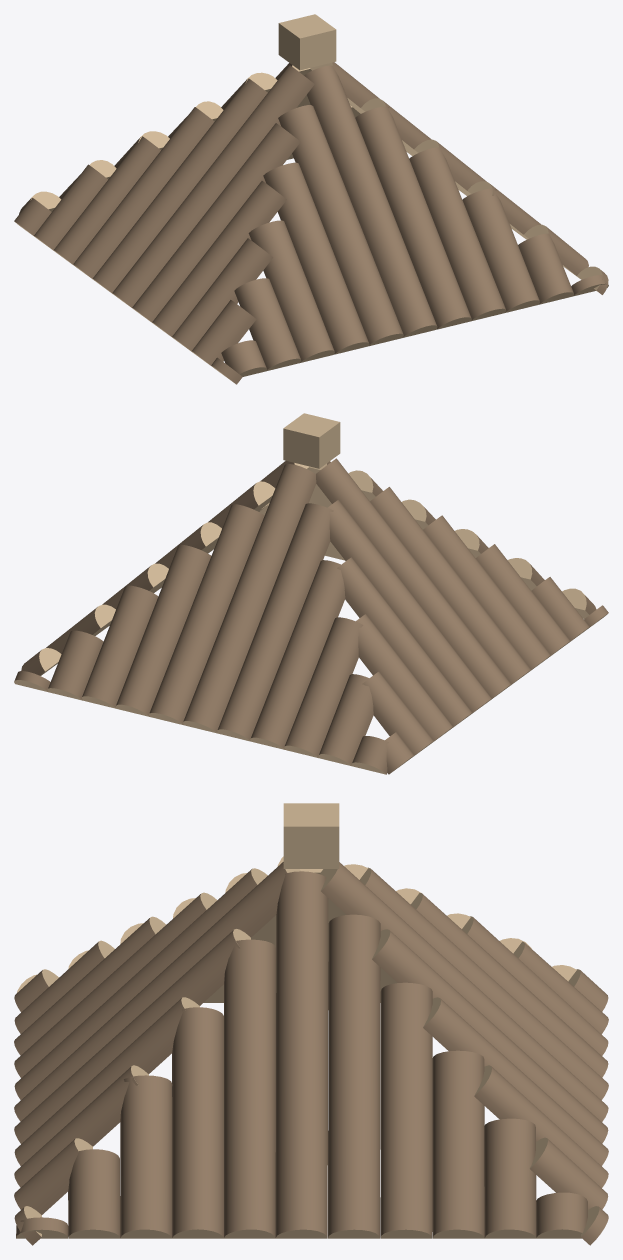
The model's file is log_roof_peak_steep.glb.
3 views of the same model, one above another, from view 1: azimuth 30°, elevation 25°; view 2: azimuth 150°, elevation 25°; view 3: azimuth 270°, elevation 25° (orthographic). The views are drawn at different scales.
Visible parts, largest first — view 1: Roof; view 2: Roof; view 3: Roof.
Part boxes in pixels (<box>): Roof: <box>14,14,608,384</box>; Roof: <box>14,413,608,774</box>; Roof: <box>14,803,608,1245</box>.
Size of the model in its own units: 3.2 by 1.82 by 3.2.
